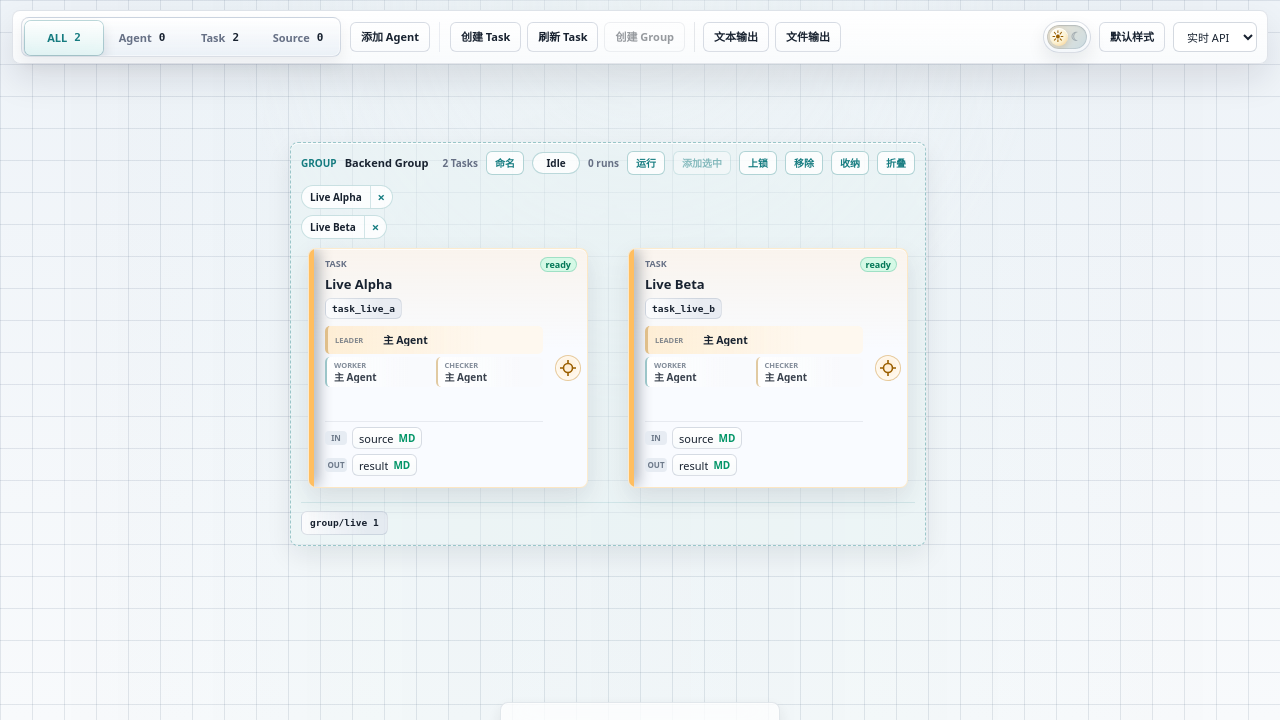
App › live Task Groups › archives an unlocked Live Task Group without removing Task nodes
Check: the element with class "execution-map-nodes" is shown, box x1=290 y1=142 x2=926 y2=546
Click the button with aria-label "移除 Backend Group": click(804, 163) x1=785 y1=151 x2=823 y2=175
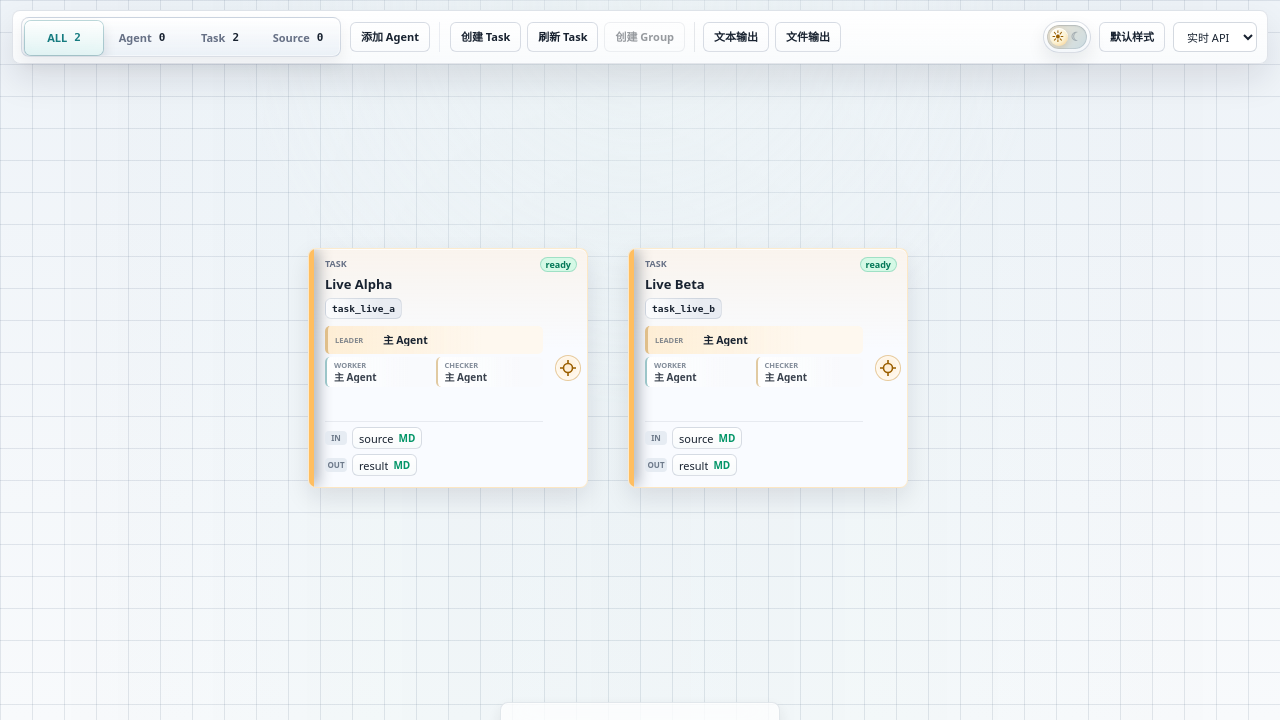
Check: the button "Live Alpha" is shown, box x1=308 y1=248 x2=588 y2=488
Check: the text "Backend Group" is gone
